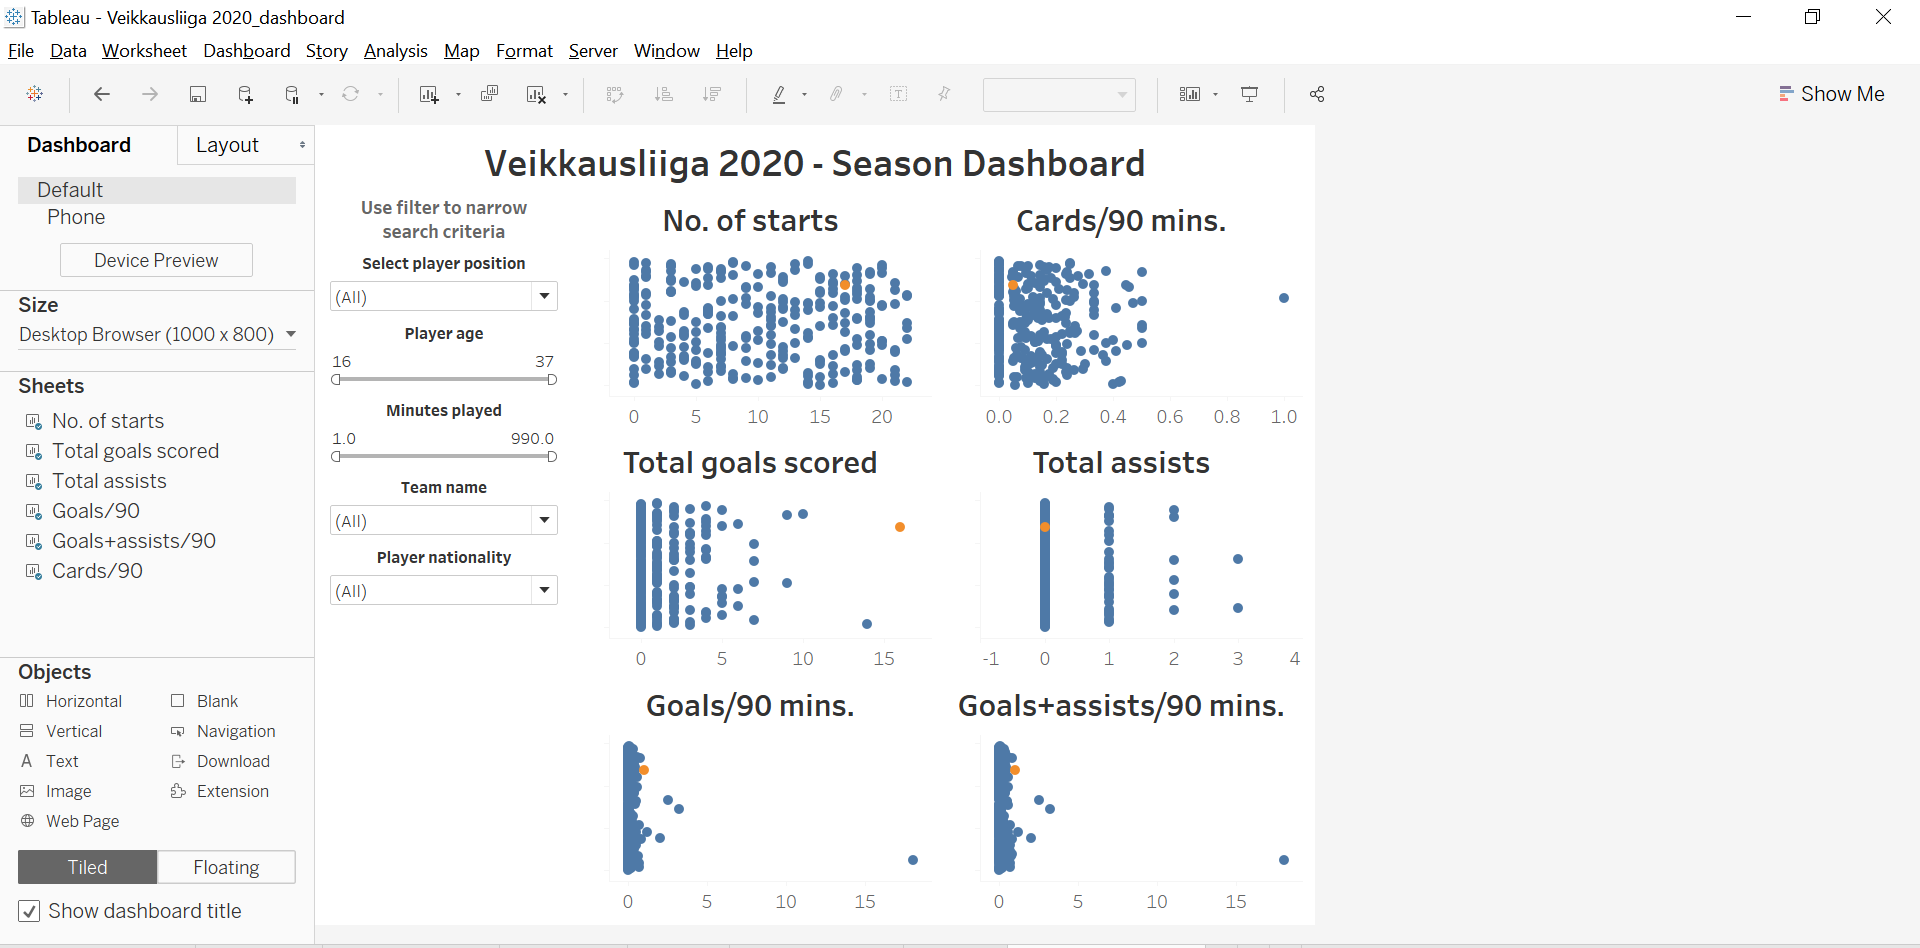

The dashboard page shown, as its layout file describes it:
{"tool":"tableau","page":{"name":"Season dashboard","canvas":[1000,800],"ordinal":0},"visuals":[{"type":"worksheet","box":[0,0,1000,800]},{"type":"worksheet","param":"vert","box":[8,8,984,784]},{"type":"worksheet","box":[8,8,984,57]},{"type":"worksheet","box":[8,65,984,727]},{"type":"worksheet","param":"vert","box":[8,65,242,727]},{"type":"worksheet","box":[8,65,242,58]},{"type":"worksheet","param":"horz","box":[250,65,742,242.3]},{"type":"worksheet","title":"No. of starts","mark":"Circle","cols":["Playing Time Starts"],"box":[250,65,371,242.3]},{"type":"worksheet","title":"Cards/90","mark":"Circle","cols":["Calculation_46443379739508745"],"box":[621,65,371,242.3]},{"type":"worksheet","title":"No. of starts","mark":"Circle","cols":["Playing Time Starts"],"param":"[federated.0r19pjb0ndy72q14p8k100zyfy53].[none:Pos:nk]","box":[8,123,242,70]},{"type":"worksheet","title":"No. of starts","mark":"Circle","cols":["Playing Time Starts"],"param":"[federated.0r19pjb0ndy72q14p8k100zyfy53].[none:Age:qk]","box":[8,193,242,77]},{"type":"worksheet","title":"No. of starts","mark":"Circle","cols":["Playing Time Starts"],"param":"[federated.0r19pjb0ndy72q14p8k100zyfy53].[none:Playing Time Min:qk]","box":[8,270,242,77]},{"type":"worksheet","param":"horz","box":[250,307.3,742,242.3]},{"type":"worksheet","title":"Total goals scored","mark":"Circle","cols":["Performance Gls"],"box":[250,307.3,371,242.3]},{"type":"worksheet","title":"Total assists","mark":"Circle","cols":["Performance Ast"],"box":[621,307.3,371,242.3]},{"type":"worksheet","title":"No. of starts","mark":"Circle","cols":["Playing Time Starts"],"param":"[federated.0r19pjb0ndy72q14p8k100zyfy53].[none:Squad:nk]","box":[8,347,242,70]},{"type":"worksheet","title":"No. of starts","mark":"Circle","cols":["Playing Time Starts"],"param":"[federated.0r19pjb0ndy72q14p8k100zyfy53].[none:Nation:nk]","box":[8,417,242,70]},{"type":"worksheet","param":"horz","box":[250,549.7,742,242.3]},{"type":"worksheet","param":"horz","box":[250,549.7,742,242.3]},{"type":"worksheet","param":"horz","box":[250,549.7,742,242.3]},{"type":"worksheet","box":[250,549.7,742,242.3]},{"type":"worksheet","title":"Goals/90","mark":"Circle","cols":["Per 90 Minutes Gls"],"box":[250,549.7,371,242.3]},{"type":"worksheet","title":"Goals+assists/90","mark":"Circle","cols":["Per 90 Minutes G+A"],"box":[621,549.7,371,242.3]}]}

Visuals, with their boxes on the page's 1000x800 design canvas (x1, y1, x2, y2). These are canvas units, not pixel positions in the 1920x948 screenshot, which may show the page scaled, cropped or inside an application window:
worksheet: pyautogui.locateOnScreen(0, 0, 1000, 800)
worksheet: pyautogui.locateOnScreen(8, 8, 992, 792)
worksheet: pyautogui.locateOnScreen(8, 8, 992, 65)
worksheet: pyautogui.locateOnScreen(8, 65, 992, 792)
worksheet: pyautogui.locateOnScreen(8, 65, 250, 792)
worksheet: pyautogui.locateOnScreen(8, 65, 250, 123)
worksheet: pyautogui.locateOnScreen(250, 65, 992, 307)
"No. of starts" worksheet (Circle marks): pyautogui.locateOnScreen(250, 65, 621, 307)
"Cards/90" worksheet (Circle marks): pyautogui.locateOnScreen(621, 65, 992, 307)
"No. of starts" worksheet (Circle marks): pyautogui.locateOnScreen(8, 123, 250, 193)
"No. of starts" worksheet (Circle marks): pyautogui.locateOnScreen(8, 193, 250, 270)
"No. of starts" worksheet (Circle marks): pyautogui.locateOnScreen(8, 270, 250, 347)
worksheet: pyautogui.locateOnScreen(250, 307, 992, 550)
"Total goals scored" worksheet (Circle marks): pyautogui.locateOnScreen(250, 307, 621, 550)
"Total assists" worksheet (Circle marks): pyautogui.locateOnScreen(621, 307, 992, 550)
"No. of starts" worksheet (Circle marks): pyautogui.locateOnScreen(8, 347, 250, 417)
"No. of starts" worksheet (Circle marks): pyautogui.locateOnScreen(8, 417, 250, 487)
worksheet: pyautogui.locateOnScreen(250, 550, 992, 792)
worksheet: pyautogui.locateOnScreen(250, 550, 992, 792)
worksheet: pyautogui.locateOnScreen(250, 550, 992, 792)
worksheet: pyautogui.locateOnScreen(250, 550, 992, 792)
"Goals/90" worksheet (Circle marks): pyautogui.locateOnScreen(250, 550, 621, 792)
"Goals+assists/90" worksheet (Circle marks): pyautogui.locateOnScreen(621, 550, 992, 792)
